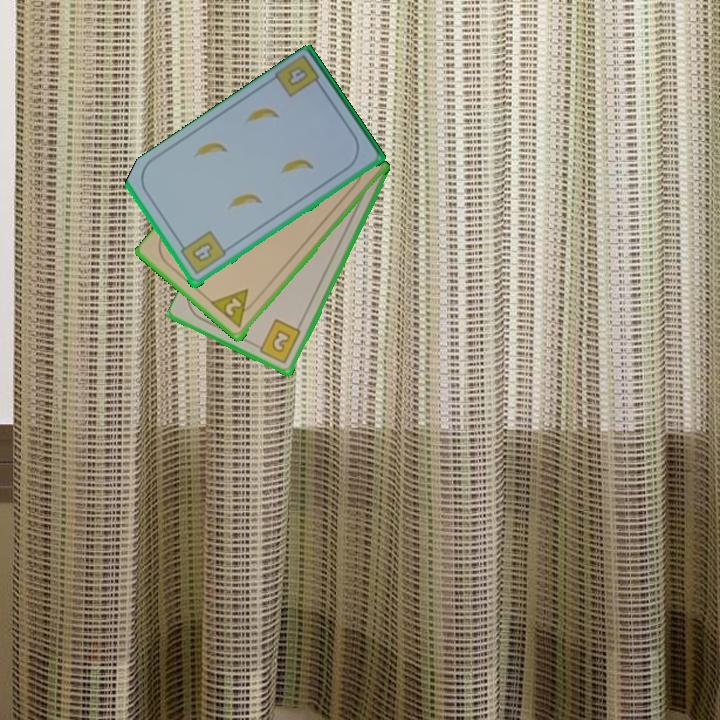2b: (251, 316, 304, 367)
2p: (208, 286, 260, 332)
4b: (176, 227, 228, 278), (271, 53, 326, 101)
